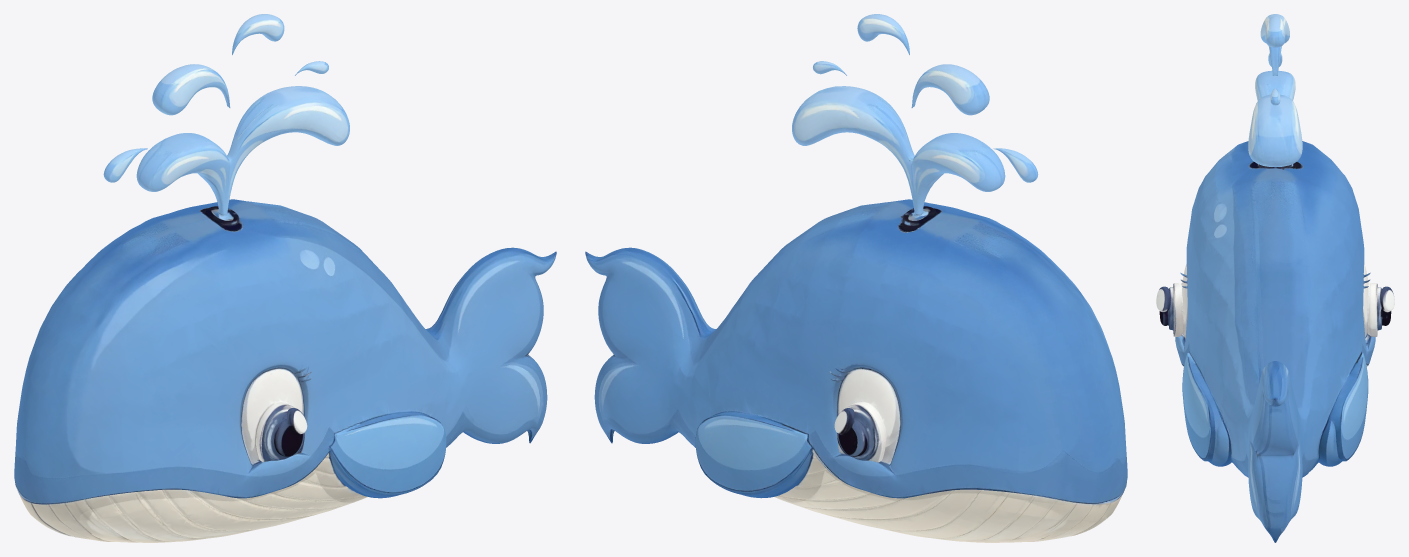
The model's file is Polpo.glb.
The picture shows the model from 3 angles, left to right: view 1: azimuth 30°, elevation 25°; view 2: azimuth 150°, elevation 25°; view 3: azimuth 270°, elevation 25°; orthographic projection. The views are drawn at different scales.
Bounding box in the file's own units: 1.9 × 1.7 × 0.8776.
Materials: 1 (1 with a texture image).
